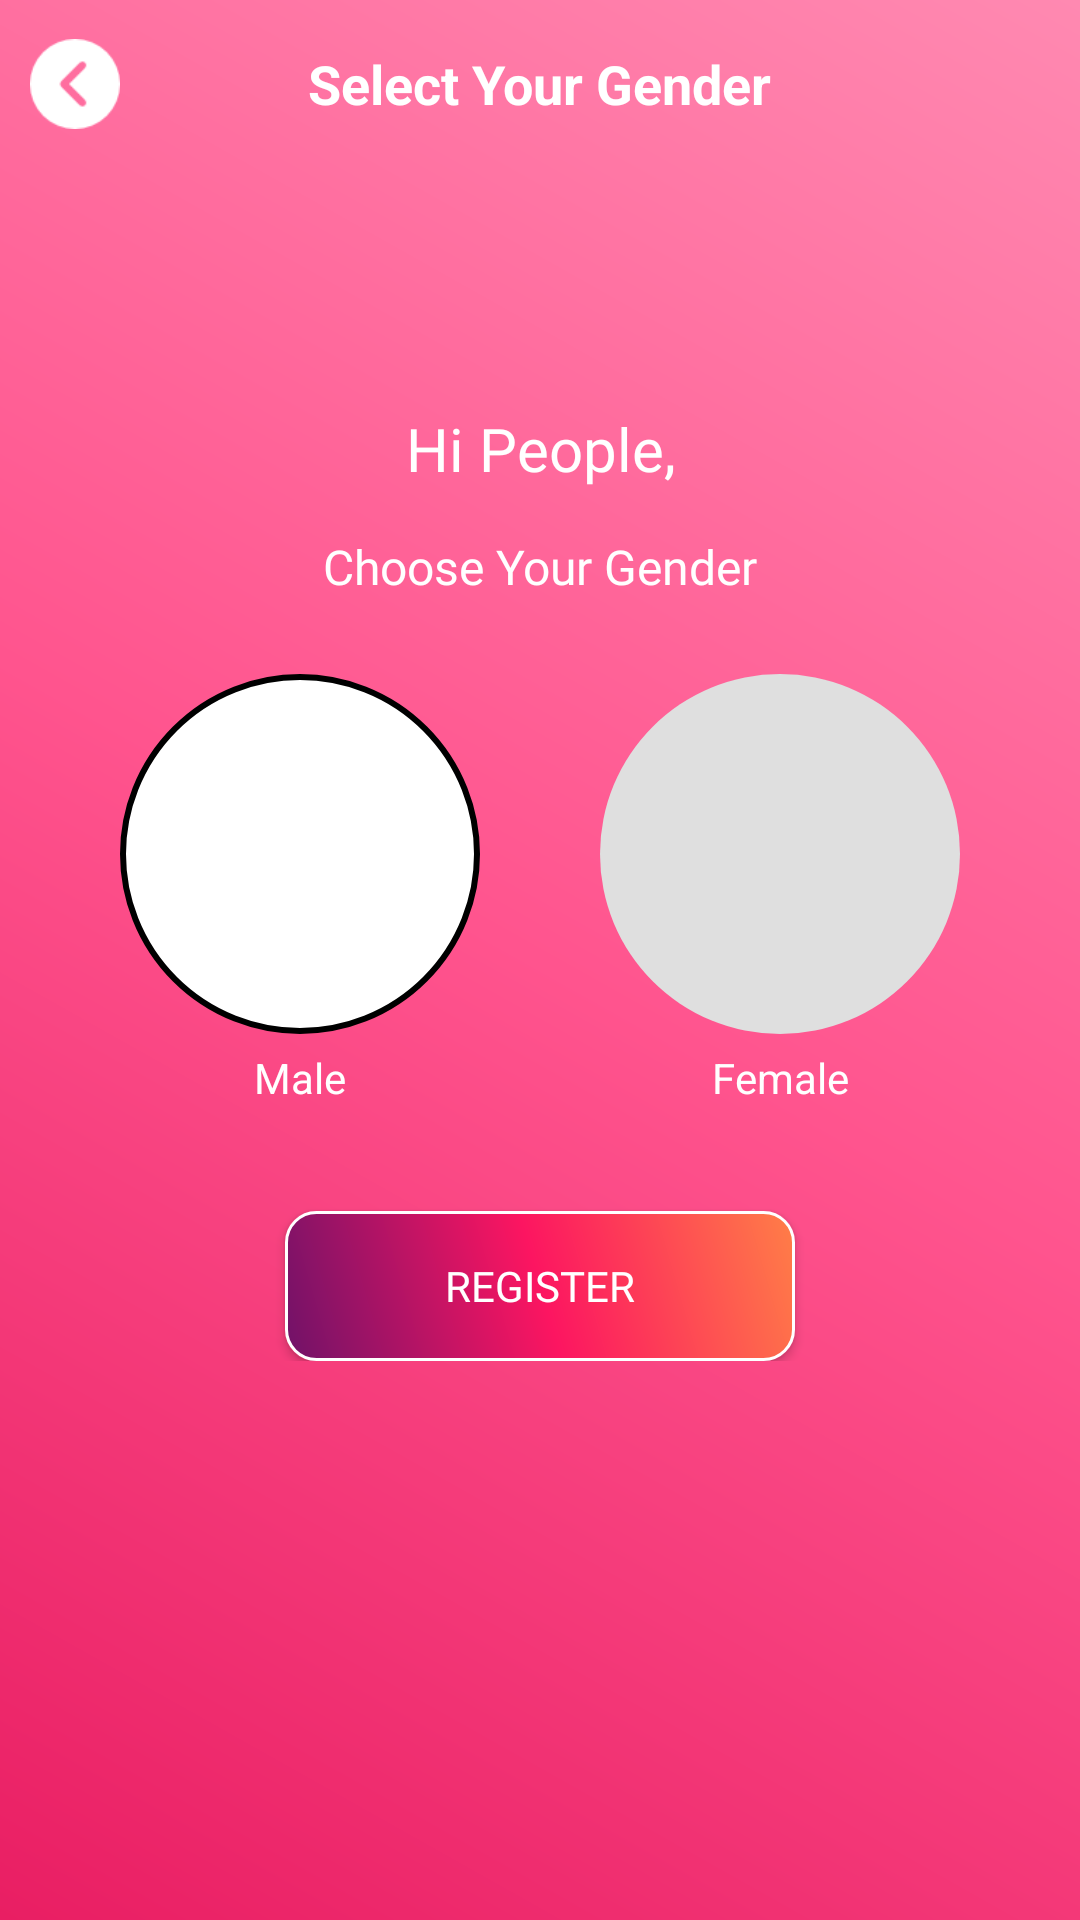

Point at icon controls on the screen. Image size 1080x1920, points as (x,y).
back: (75,84)
